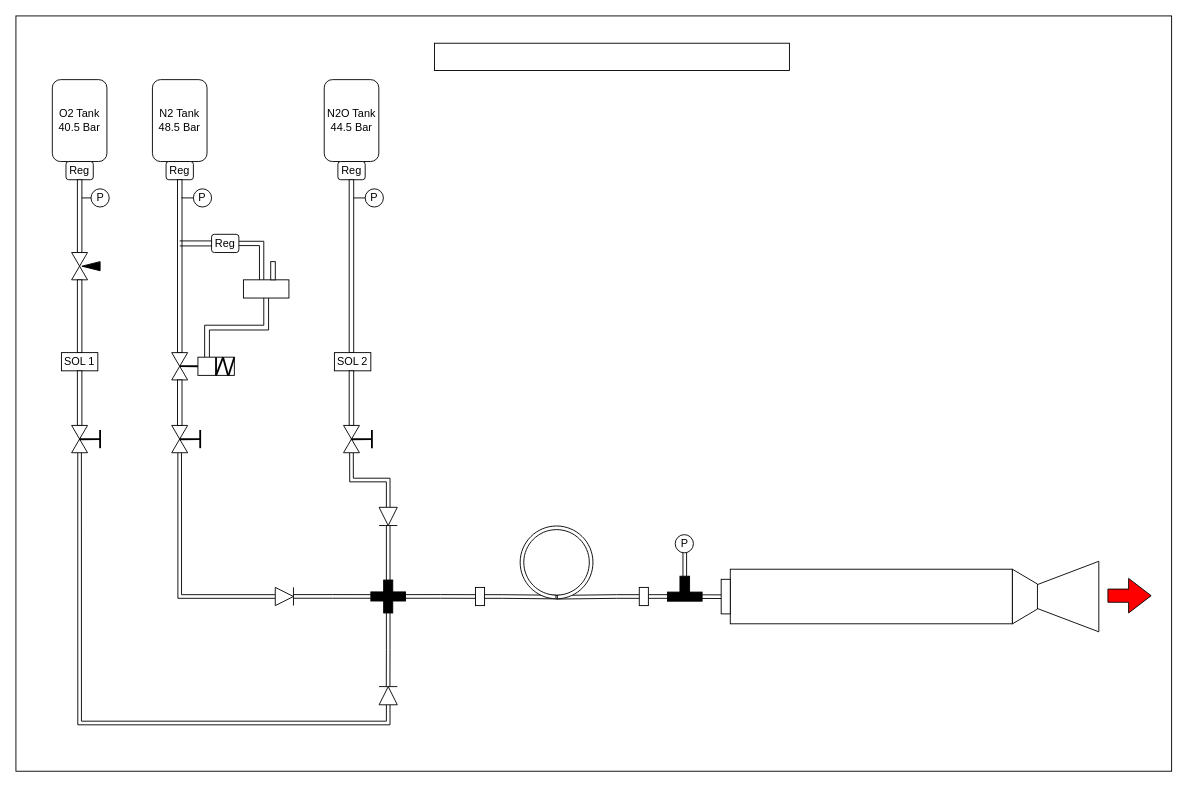
Image size: 1188x787. Some labels were removed from this diagram. The centre of each missing label's shape, as x and y in pixels:
Combustion Chamber: the point at 870,596
CranSEDS HYDRA Feed System Schematic: the point at 611,56
SOL 3: the point at 266,288
